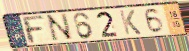2: (96, 10, 120, 38)
6: (72, 11, 94, 41), (143, 7, 166, 34)
F: (19, 15, 47, 45)
K: (118, 9, 143, 36)
N: (45, 13, 76, 43)
